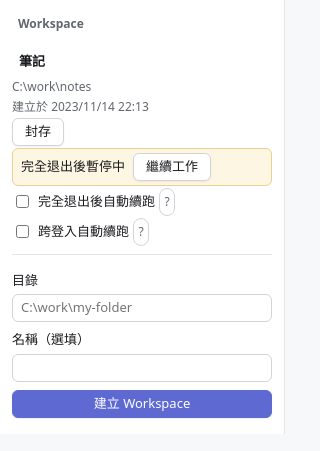
Test case: 左側 Workspace 清單 › 完全退出後暫停中的 Workspace 顯示「繼續工作」，按下後呼叫 resume 並重新讀取
Expected: the text "完全退出後暫停中" is shown, [21, 157, 125, 176]
Click the button with aria-label "繼續工作 筆記".
click(172, 167)  # box [133, 153, 211, 181]
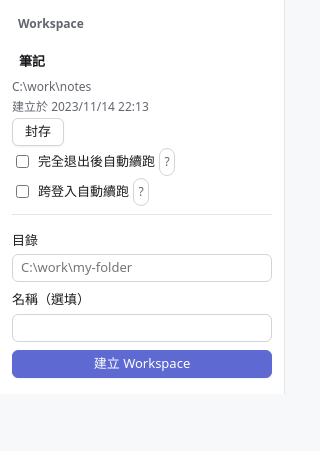
Expected: the text "完全退出後暫停中" is gone
